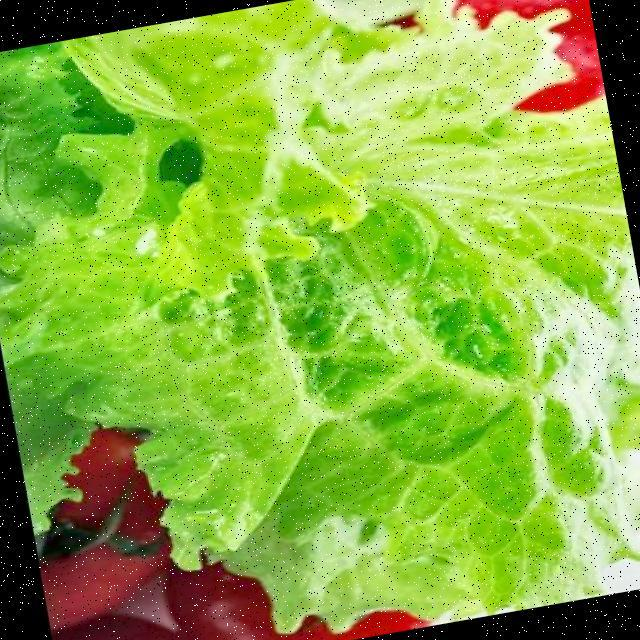healthy: (142, 112, 640, 558)
